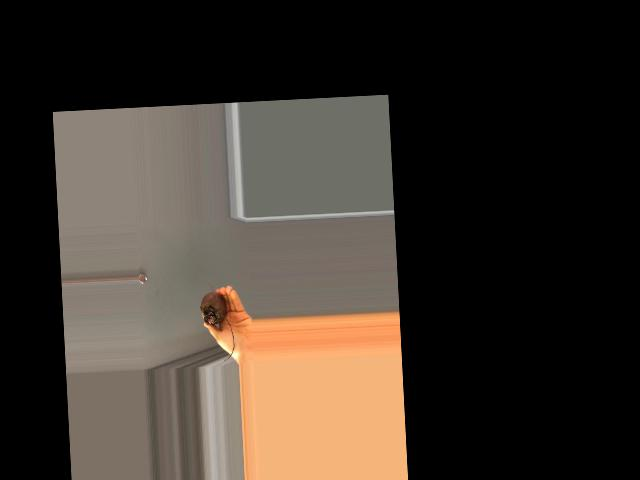beet: (199, 282, 235, 361)
